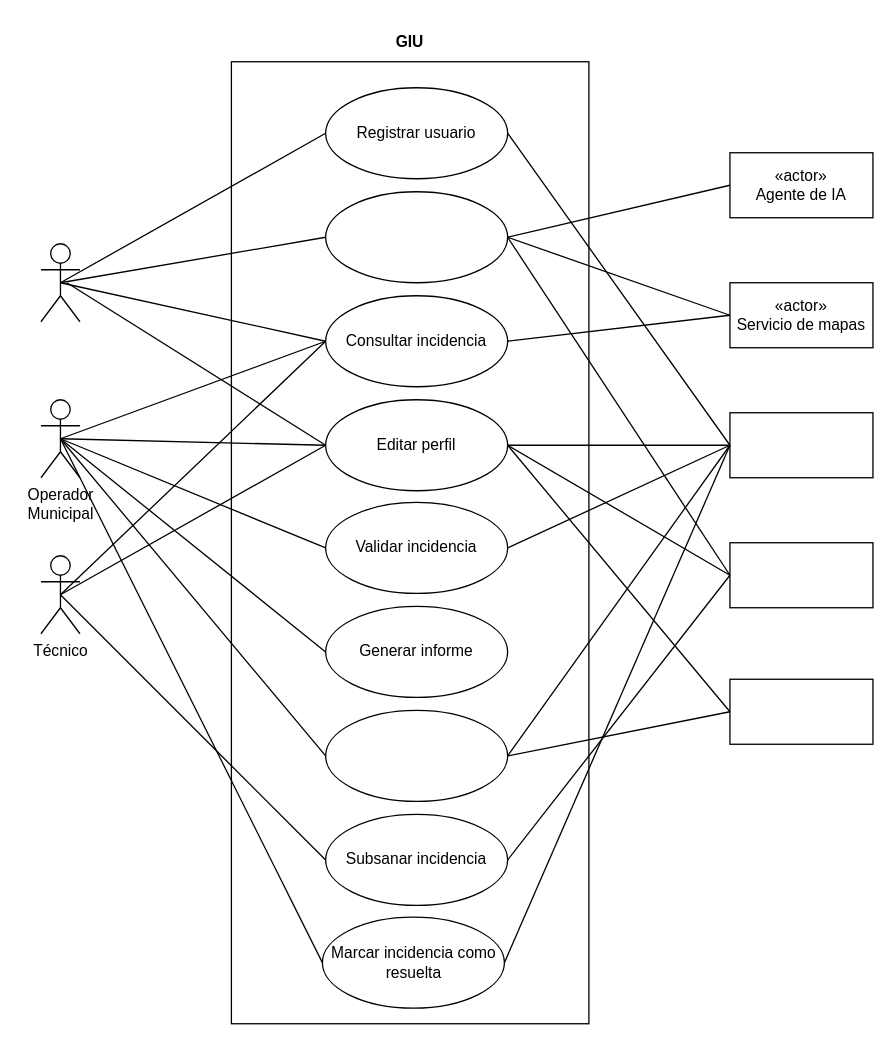
Some shapes in this 896 by 1047 pixel diagram are drawn without their labels. The centre of each missing label's shape, as x and y in pixels:
"Asignar incidencia" belongs at [416,755].
"Ciudadano" belongs at [60,282].
"Registrar incidencia" belongs at [416,236].
"«actor» Buzón Ciudadano" belongs at [801,444].
"«actor» Buzón Operador Municipal" belongs at [801,574].
"«actor» Buzón Técnico" belongs at [801,711].
